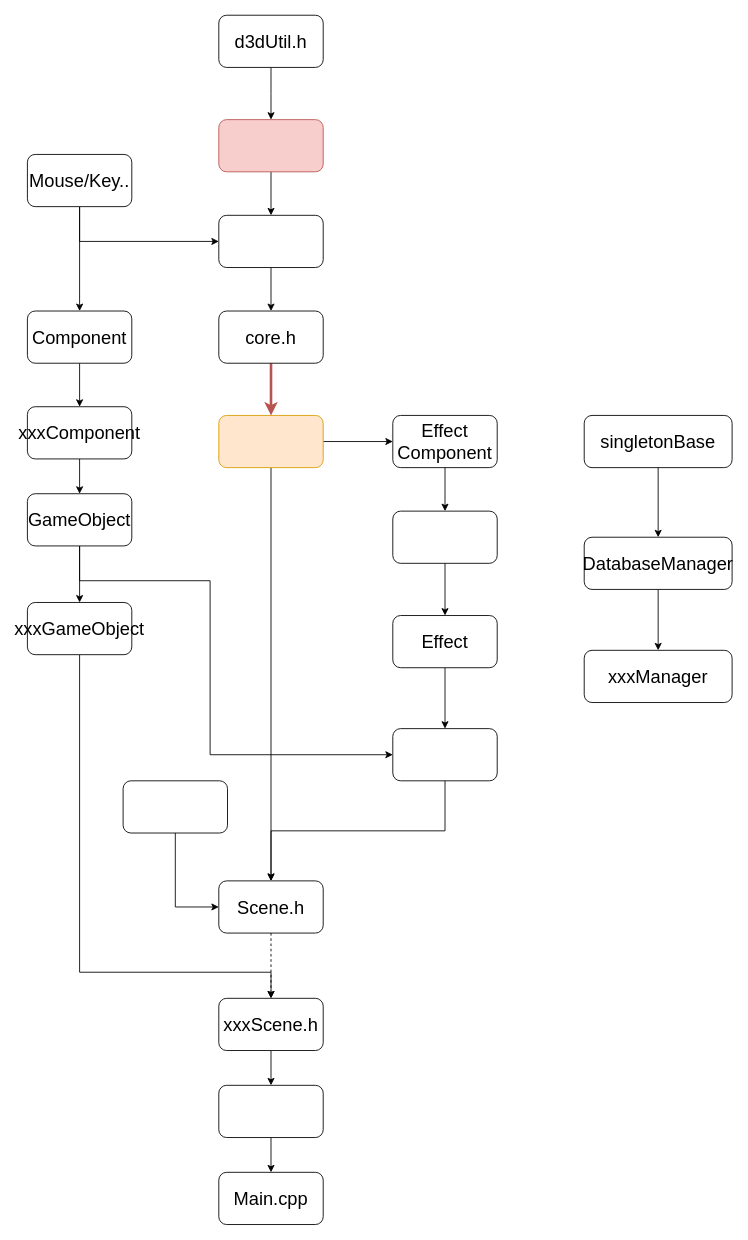
Some shapes in this 748 by 1240 pixel diagram are drawn without their labels. The box of each missing label's shape, as (x1, y1, x2, y2) in pixels:
Camera.h: (122, 780, 228, 833)
d3dApp.h: (218, 214, 323, 268)
d3dManager: (218, 119, 323, 172)
ddsLoader: (218, 415, 323, 468)
GameApp.h: (218, 1084, 323, 1138)
RenderProxy: (392, 728, 497, 781)
xxxEffect Component: (392, 510, 497, 563)
